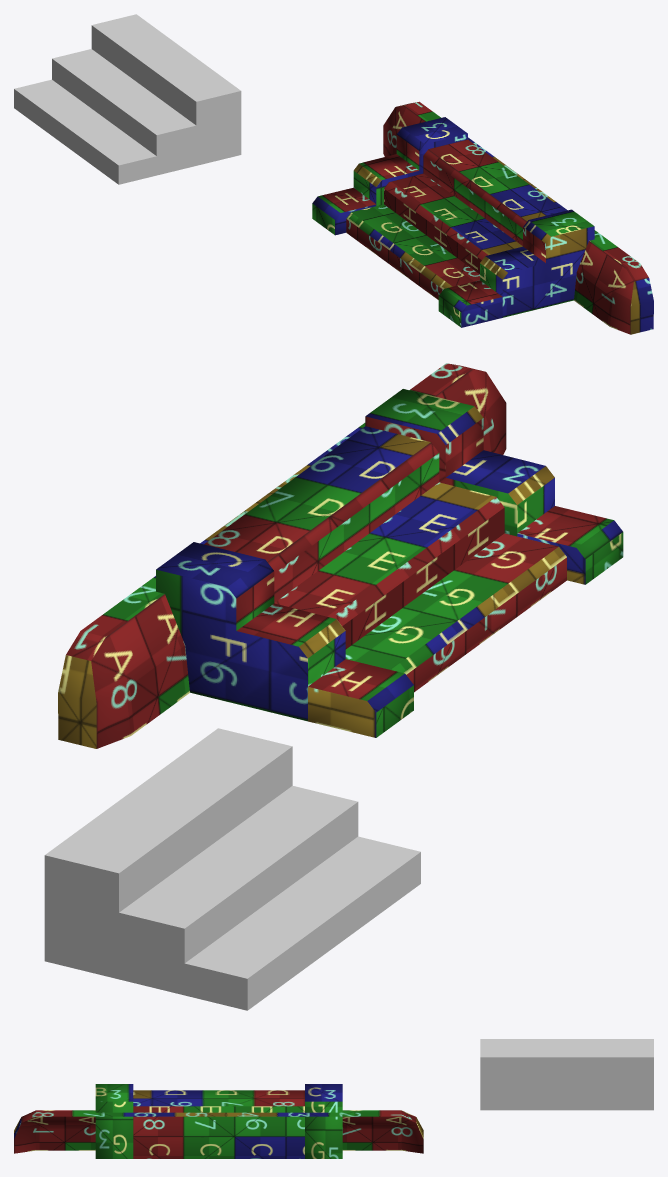
The picture shows the model from 3 angles, top to bottom: view 1: azimuth 30°, elevation 25°; view 2: azimuth 150°, elevation 25°; view 3: azimuth 270°, elevation 25°; orthographic projection. The views are drawn at different scales.
Parts seen in each view (by area): view 1: Plane, prim0; view 2: Plane, prim0; view 3: Plane, prim0.
Boxes of the visible parts, x1=… form: Plane: x1=312, y1=101, x2=653, y2=334; prim0: x1=14, y1=14, x2=241, y2=184; Plane: x1=58, y1=363, x2=623, y2=748; prim0: x1=44, y1=728, x2=420, y2=1010; Plane: x1=14, y1=1084, x2=423, y2=1158; prim0: x1=480, y1=1039, x2=653, y2=1110.
Bounding box in the file's own units: 3.31 × 8.75 × 0.867.
2 materials, 1 textured.
